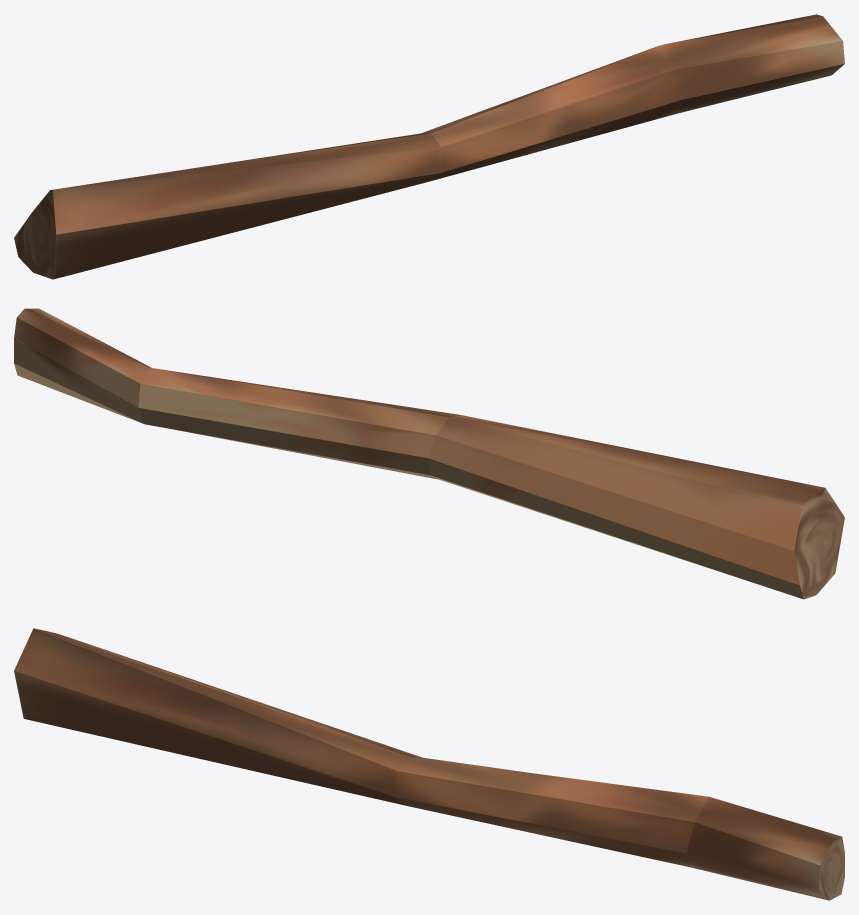
The model's file is wood-block-09.obj.
3 renders of one model, top to bottom at view 1: azimuth 30°, elevation 25°; view 2: azimuth 150°, elevation 25°; view 3: azimuth 330°, elevation 25°, orthographic. The views are drawn at different scales.
Parts seen in each view (by area): view 1: wood-block-09; view 2: wood-block-09; view 3: wood-block-09.
Boxes of the visible parts, left/top/right/bottom form: wood-block-09: left=14, top=14, right=844, bottom=279; wood-block-09: left=14, top=308, right=844, bottom=599; wood-block-09: left=14, top=628, right=844, bottom=900.
Size of the model in its own units: 3.17 by 0.3553 by 0.3635.
